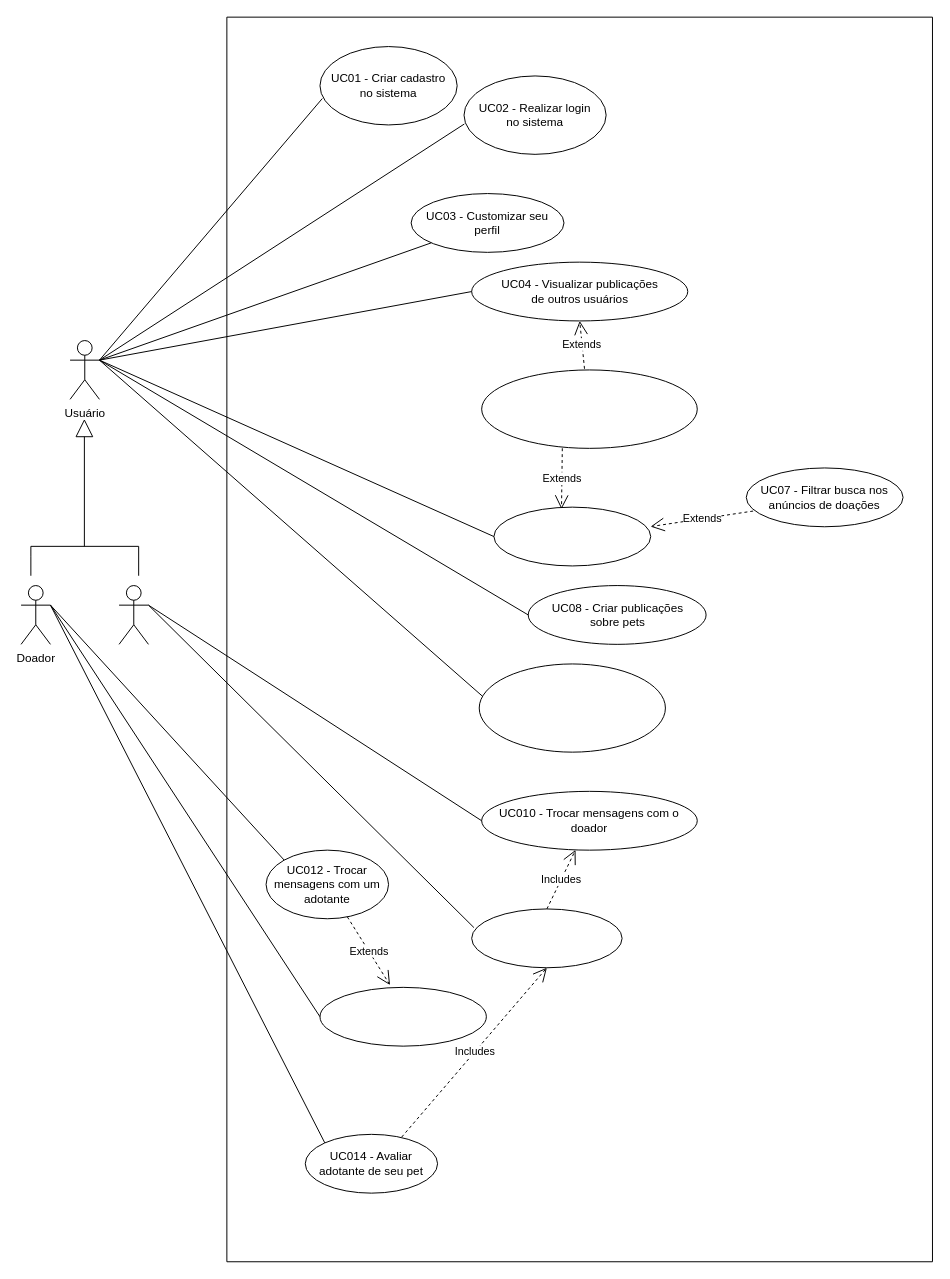
Some shapes in this 950 by 1279 pixel diagram are drawn without their labels. The shapes that lost their labels are listed below. From the top down, each one's centre as x and y in pixels, then its label:
(x=589, y=408): UC05 - Denunciar publicações e perfis maliciosos
(x=572, y=536): UC06 - Visualizar anúncios de adoção de pets
(x=133, y=614): Adotante
(x=571, y=707): UC09 - Visualizar o histórico de doações de outros usuários
(x=546, y=938): UC11 - Adotar um pet
(x=402, y=1016): UC013 - Criar anúncio de adoção de pets
